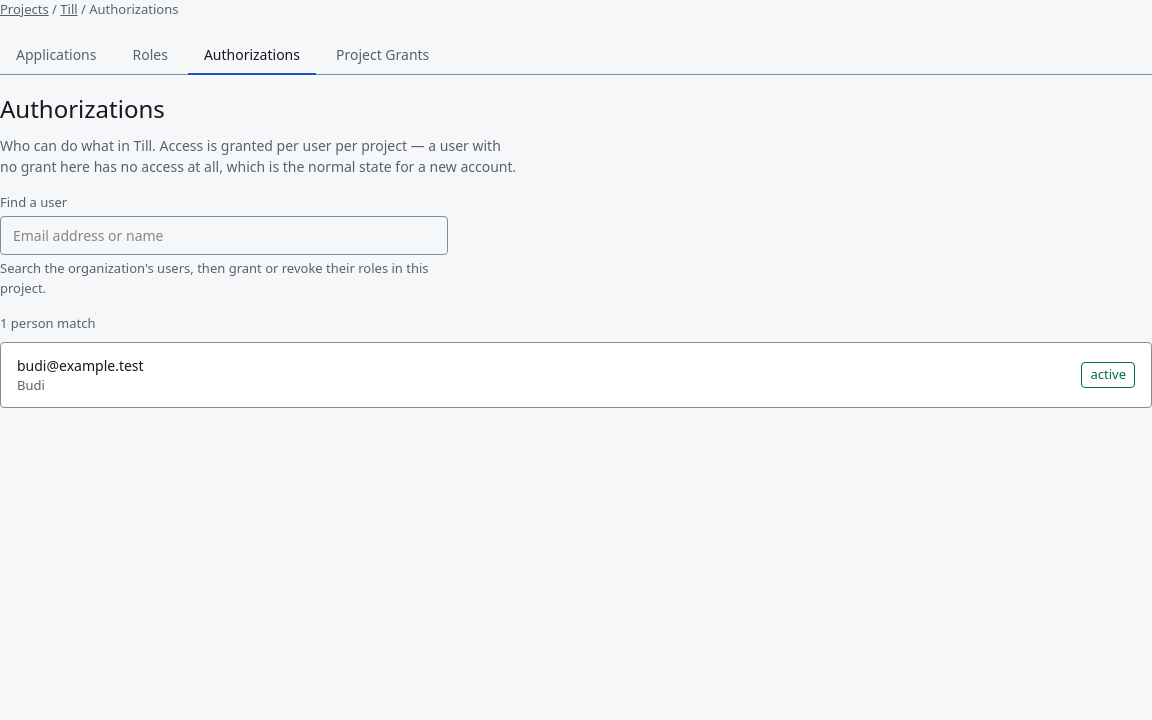
granting roles › reflects the existing grant, so a change is a change rather than a reset
Type "budi" into the search field labelled "Find a user" at (224, 236), box [0, 216, 448, 255]
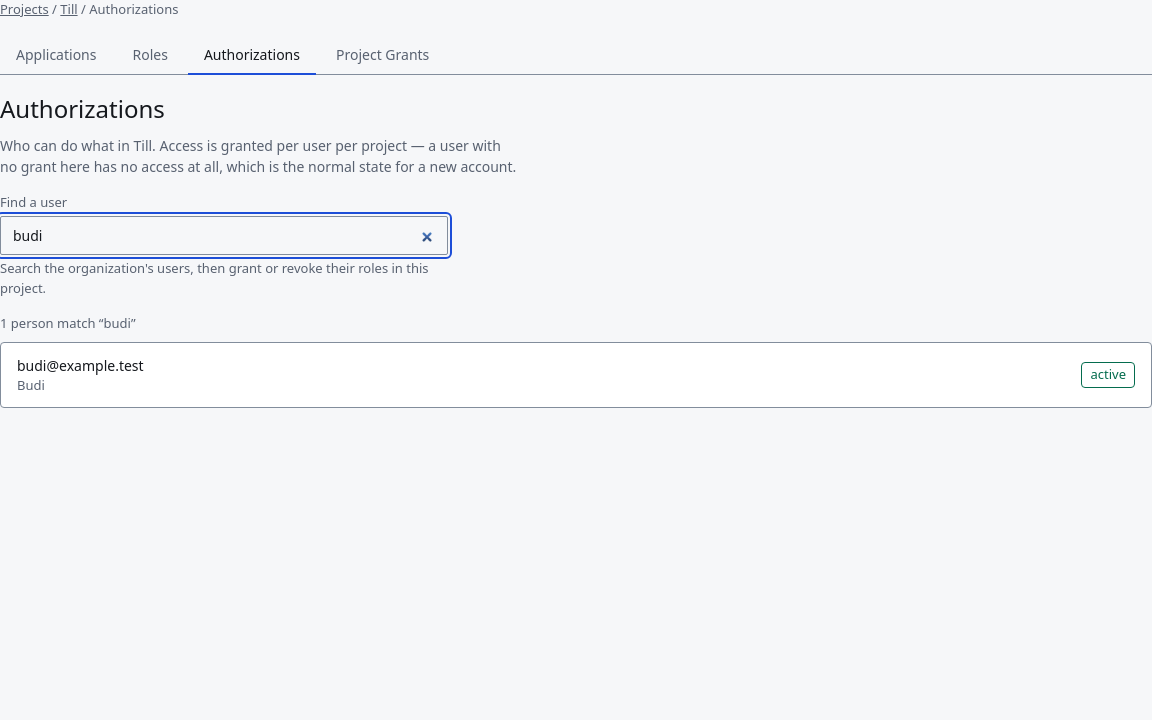
Click the button "budi@example.test Budi active" at (80, 365), box [1, 342, 1151, 407]
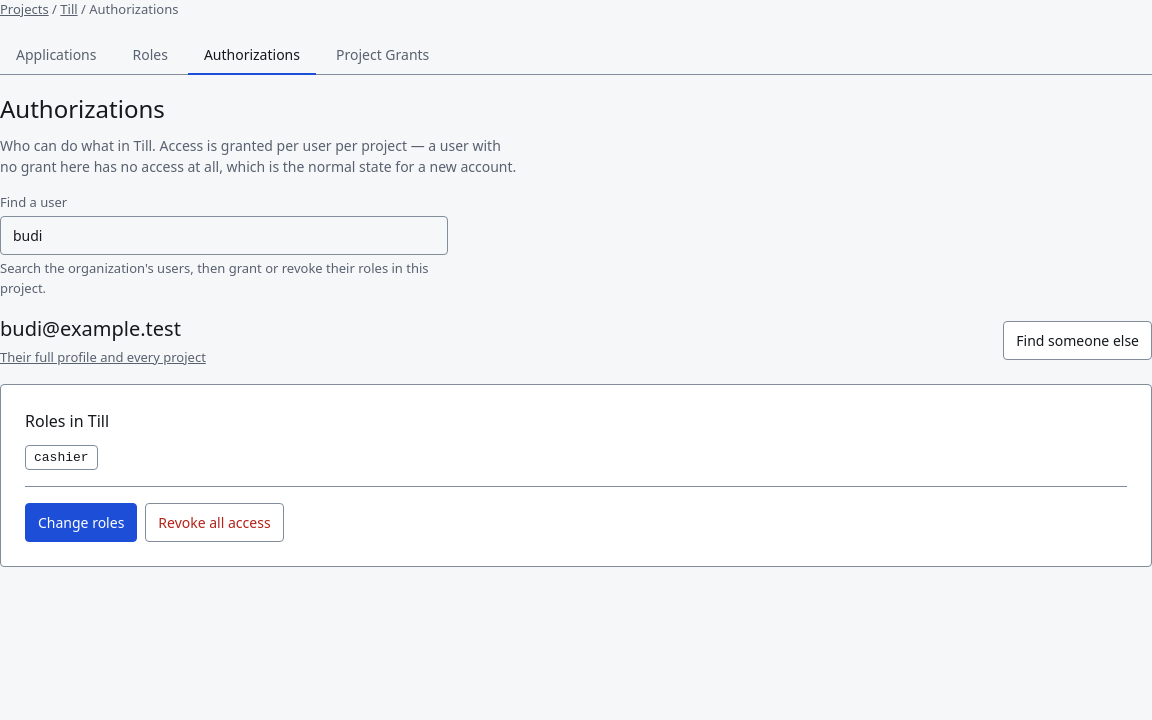
Click the button "Change roles" at (81, 522), box [25, 503, 137, 542]
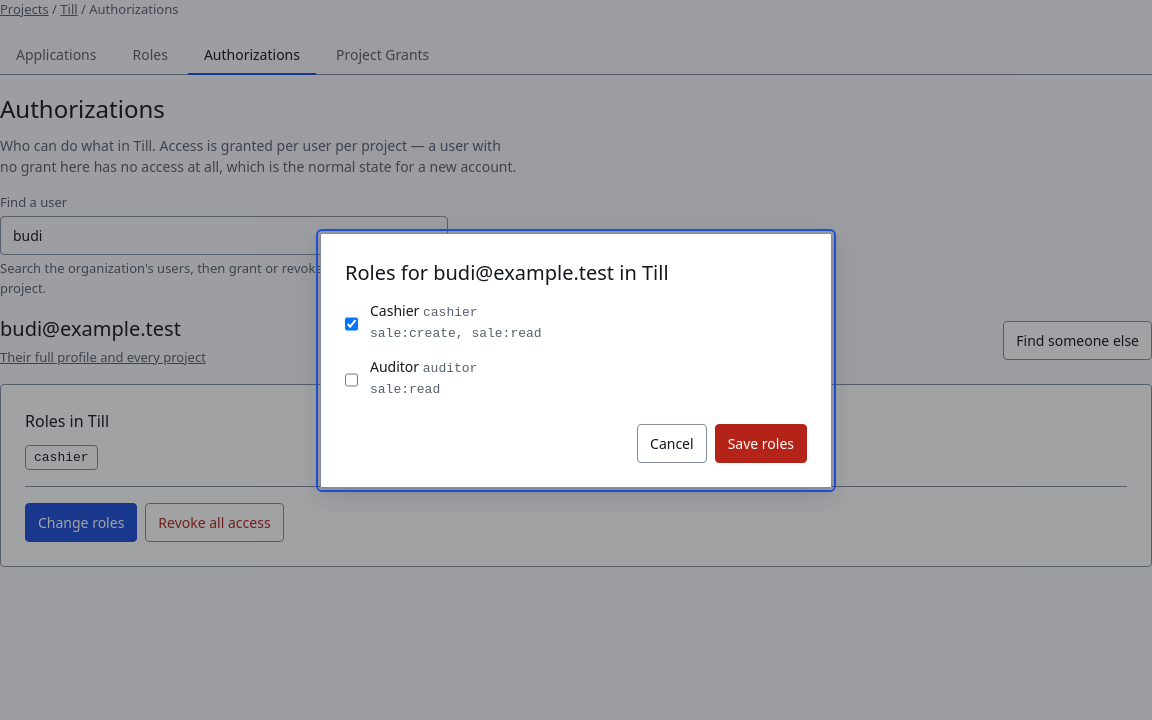
Expected: the checkbox labelled "Cashier cashier sale:create, sale:read" is checked, [345, 304, 358, 344]
Expected: the checkbox labelled "Auditor auditor sale:read" is not checked, [345, 360, 358, 400]
